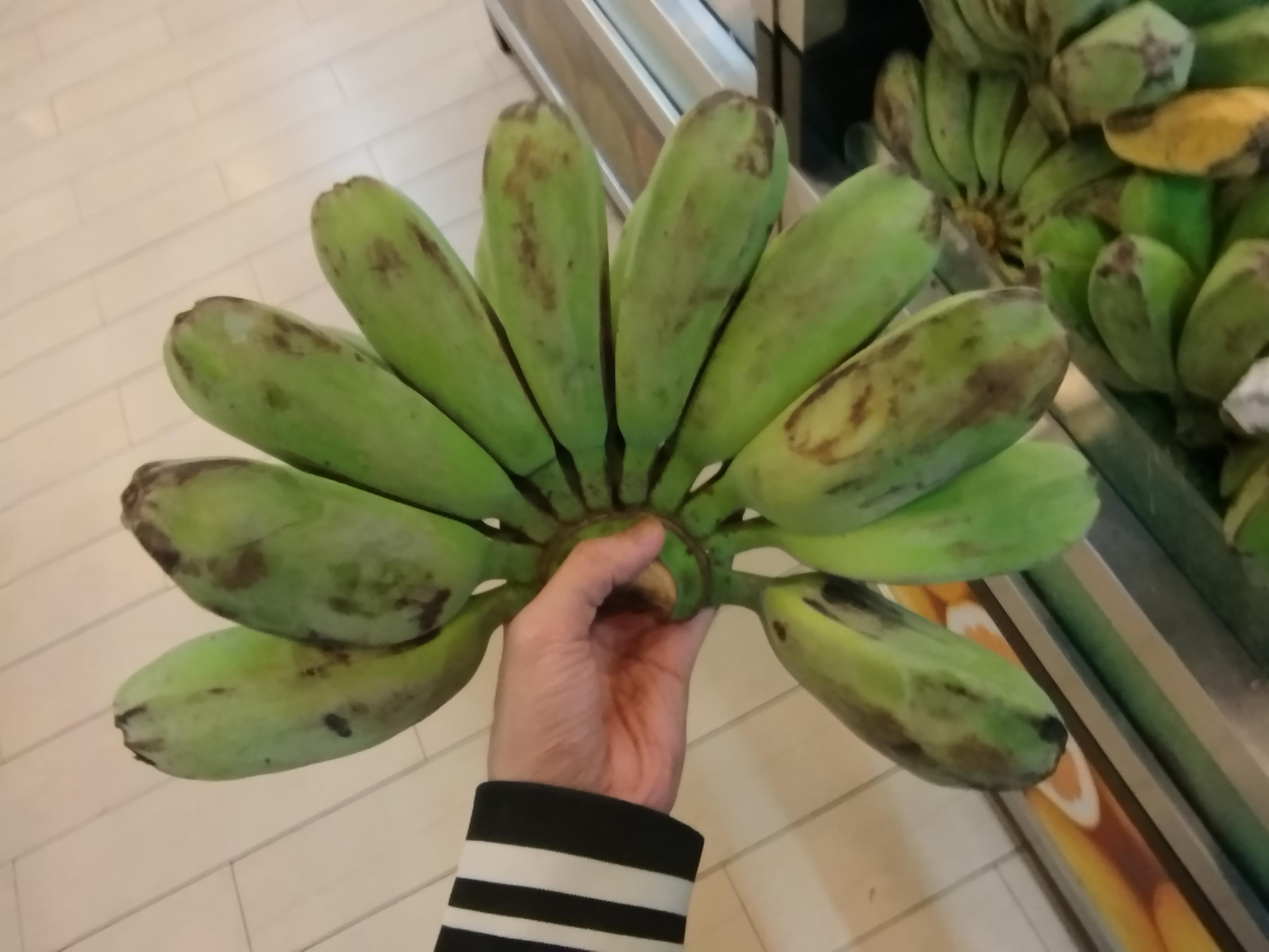underripe: (113, 90, 1099, 791), (916, 0, 1269, 179), (845, 38, 1136, 229), (1033, 168, 1269, 403)
